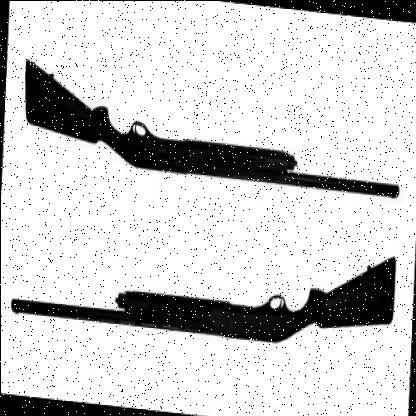rifle: (19, 57, 407, 206), (11, 216, 393, 362)
